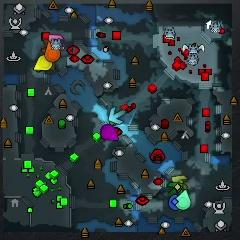p1: (169, 193, 179, 211)
p2: (175, 190, 191, 210)
p3: (101, 124, 118, 141)
p4: (34, 55, 52, 71)
p5: (44, 42, 61, 62)
x1: (48, 34, 64, 42)
x2: (172, 175, 187, 189)
x3: (109, 107, 126, 125)
x4: (169, 182, 182, 195)
